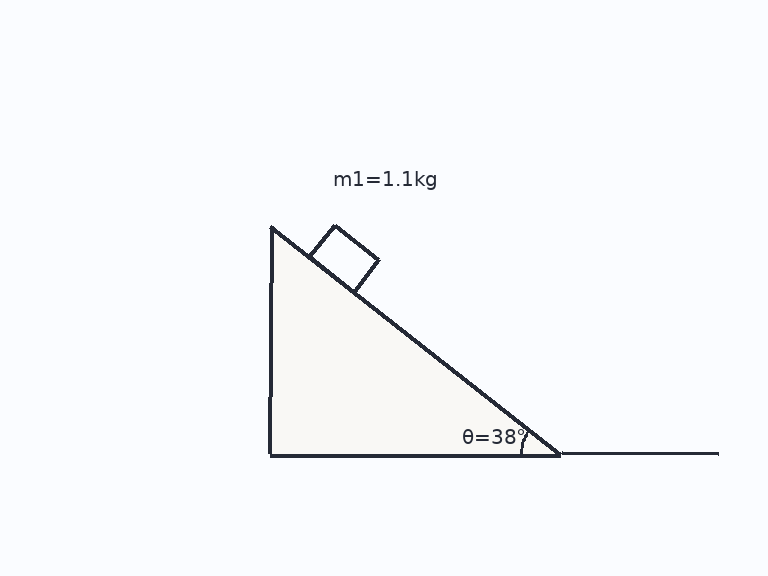block: (307, 223, 380, 294)
ramp: (268, 225, 563, 456)
